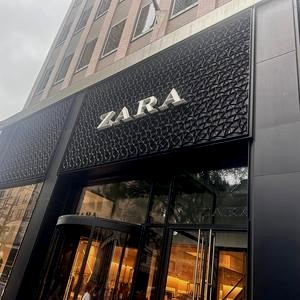zara: (100, 61, 286, 142)
